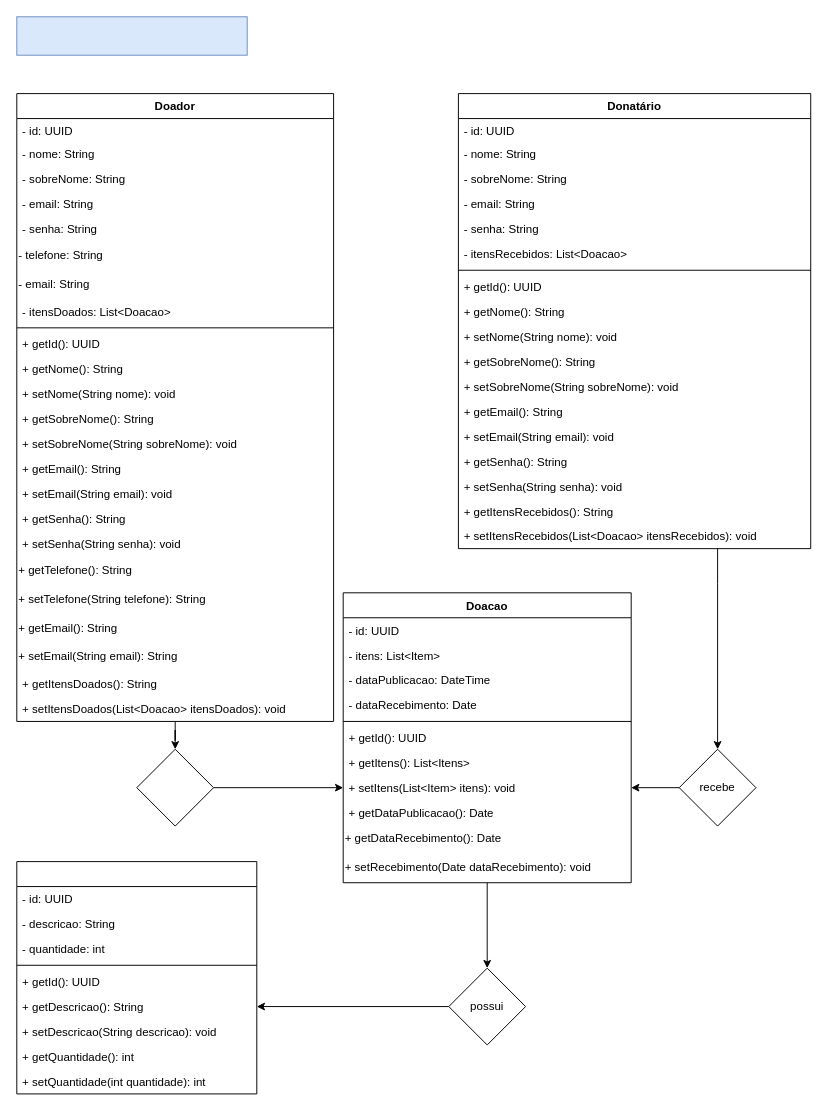
The diagram is 828 pixels wide and 1114 high, and some of its shapes have lost their labels. Each missing label, with the box of its shape:
Diagama de classes para o Doa-se: (16, 16, 247, 55)
Item: (16, 861, 257, 1094)
realiza: (136, 748, 214, 826)
